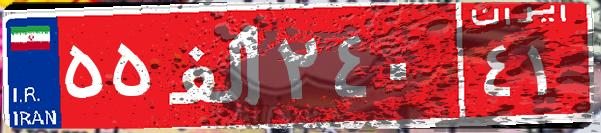0: (385, 28, 445, 110)
1: (525, 38, 570, 115)
2: (273, 28, 330, 110)
4: (330, 28, 385, 110), (475, 38, 525, 113)
5: (57, 26, 110, 107), (110, 28, 158, 105)
الف: (158, 15, 273, 115)
